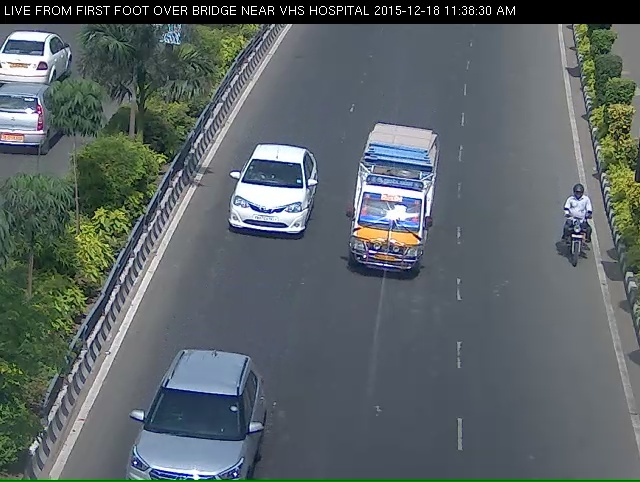Auto: (337, 135, 455, 308)
Car: (213, 152, 311, 287), (115, 399, 265, 479)
Person: (550, 202, 604, 281)
